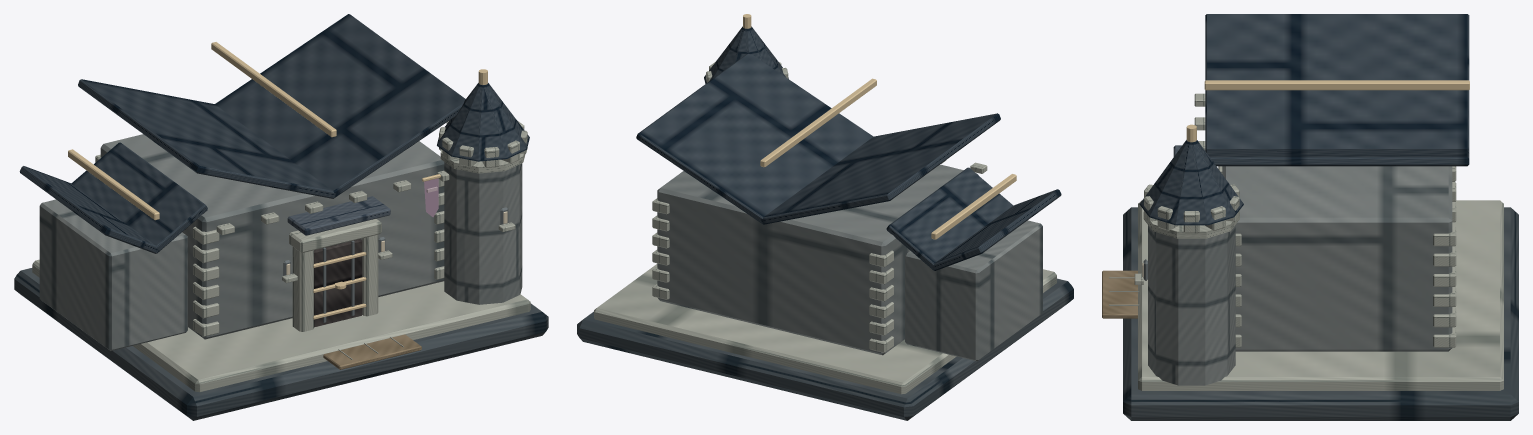
Rendered from Bastion_02.glb.
The picture shows the model from 3 angles, left to right: view 1: azimuth 30°, elevation 25°; view 2: azimuth 150°, elevation 25°; view 3: azimuth 270°, elevation 25°; orthographic projection. The views are drawn at different scales.
Parts seen in each view (by area): view 1: Main keep - ashlar walls.001, Keep/right.001, Western gallery, Dressed foundation.001, Rock-and-masonry plinth.001, Keep/left.001, Octagonal masonry turret, Gallery west/right, Hand-cut slate turret roof, Two oak gate leaves.005, Gallery west/left, Gate overhang.001 (+7 smaller); view 2: Main keep - ashlar walls.001, Keep/right.001, Western gallery, Dressed foundation.001, Rock-and-masonry plinth.001, Keep/left.001, Gallery west/right, Gallery west/left, Hand-cut slate turret roof, Keep/ridge.001, Gallery west/ridge; view 3: Main keep - ashlar walls.001, Keep/left.001, Dressed foundation.001, Rock-and-masonry plinth.001, Octagonal masonry turret, Hand-cut slate turret roof, Keep/right.001, Keep/ridge.001, Gate paving.001, Raised rim ring.
Part boxes in pixels (x1=…): Main keep - ashlar walls.001: x1=100, y1=134, x2=444, y2=339; Keep/right.001: x1=215, y1=14, x2=465, y2=198; Western gallery: x1=39, y1=199, x2=187, y2=350; Dressed foundation.001: x1=32, y1=259, x2=530, y2=392; Rock-and-masonry plinth.001: x1=14, y1=268, x2=548, y2=420; Keep/left.001: x1=78, y1=79, x2=335, y2=198; Octagonal masonry turret: x1=444, y1=162, x2=522, y2=304; Gallery west/right: x1=71, y1=142, x2=207, y2=253; Hand-cut slate turret roof: x1=437, y1=83, x2=529, y2=161; Two oak gate leaves.005: x1=314, y1=239, x2=362, y2=327; Gallery west/left: x1=19, y1=166, x2=158, y2=253; Gate overhang.001: x1=287, y1=196, x2=390, y2=235; Main keep - ashlar walls.001: x1=657, y1=164, x2=978, y2=355; Keep/right.001: x1=636, y1=53, x2=873, y2=224; Western gallery: x1=905, y1=220, x2=1042, y2=361; Dressed foundation.001: x1=594, y1=264, x2=1056, y2=394; Rock-and-masonry plinth.001: x1=577, y1=278, x2=1073, y2=420; Keep/left.001: x1=761, y1=113, x2=1000, y2=224; Gallery west/right: x1=886, y1=167, x2=1012, y2=270; Gallery west/left: x1=933, y1=189, x2=1061, y2=270; Hand-cut slate turret roof: x1=704, y1=26, x2=788, y2=83; Keep/ridge.001: x1=760, y1=78, x2=876, y2=167; Gallery west/ridge: x1=931, y1=174, x2=1016, y2=239; Main keep - ashlar walls.001: x1=1222, y1=166, x2=1452, y2=351; Keep/left.001: x1=1205, y1=14, x2=1469, y2=150; Dressed foundation.001: x1=1138, y1=200, x2=1503, y2=390; Rock-and-masonry plinth.001: x1=1123, y1=207, x2=1518, y2=420; Octagonal masonry turret: x1=1148, y1=225, x2=1235, y2=385; Hand-cut slate turret roof: x1=1139, y1=140, x2=1243, y2=225; Keep/right.001: x1=1205, y1=149, x2=1469, y2=166; Keep/ridge.001: x1=1204, y1=80, x2=1469, y2=90; Gate paving.001: x1=1102, y1=270, x2=1137, y2=318; Raised rim ring: x1=1143, y1=212, x2=1239, y2=238.
Size of the model in its own units: 11.76 by 7.12 by 9.71.
Materials: 16 (10 with a texture image).
